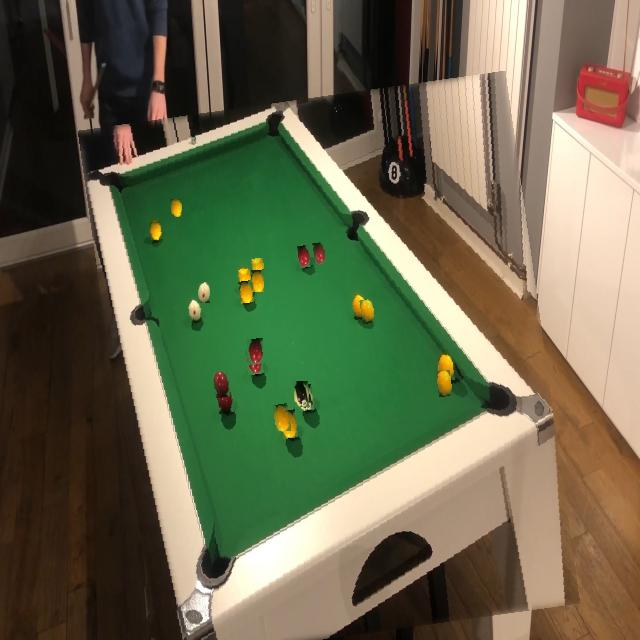Ball: (273, 404, 290, 432), (213, 372, 230, 398), (248, 338, 264, 365), (437, 371, 453, 397), (294, 381, 309, 407), (360, 300, 375, 324), (251, 270, 264, 292), (313, 243, 326, 265), (198, 282, 210, 303), (251, 258, 265, 275), (171, 199, 182, 217)
Billiard table: (95, 84, 562, 640)
